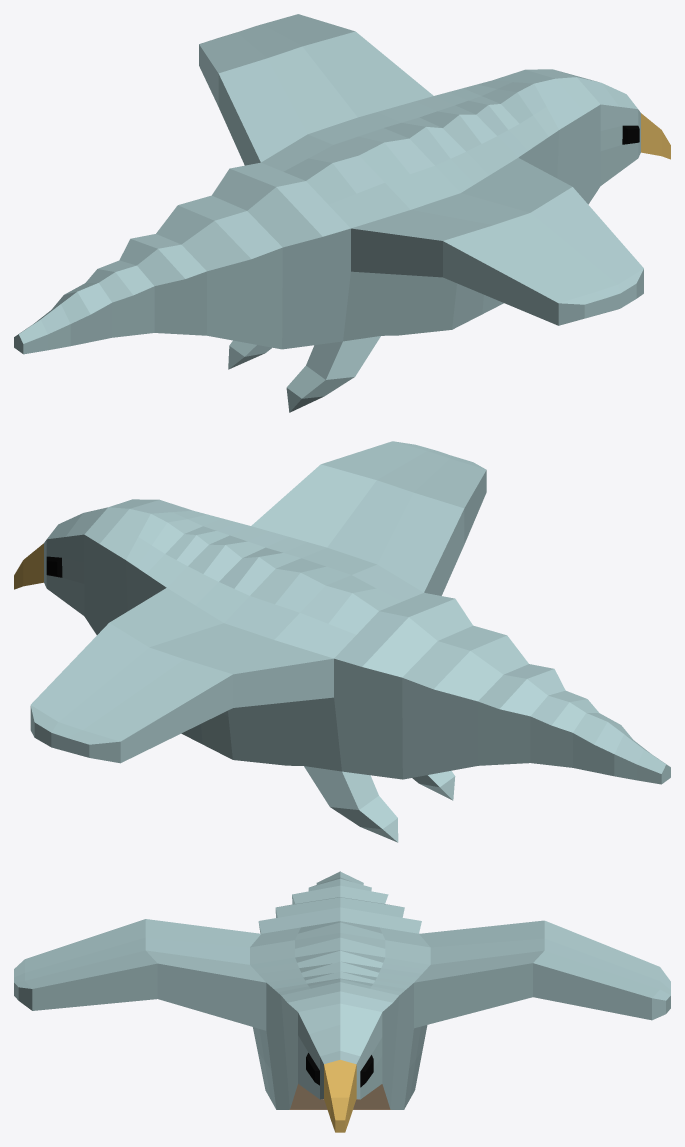
File: fögel.fbx
3 renders of one model, top to bottom at view 1: azimuth 30°, elevation 25°; view 2: azimuth 150°, elevation 25°; view 3: azimuth 270°, elevation 25°, orthographic. The views are drawn at different scales.
Visible parts, largest first — view 1: Cube; view 2: Cube; view 3: Cube.
Boxes of the visible parts, left/top/right/bottom form: Cube: left=14, top=14, right=670, bottom=412; Cube: left=14, top=441, right=670, bottom=842; Cube: left=14, top=871, right=670, bottom=1132.
Size of the model in its own units: 454 by 161 by 454.
